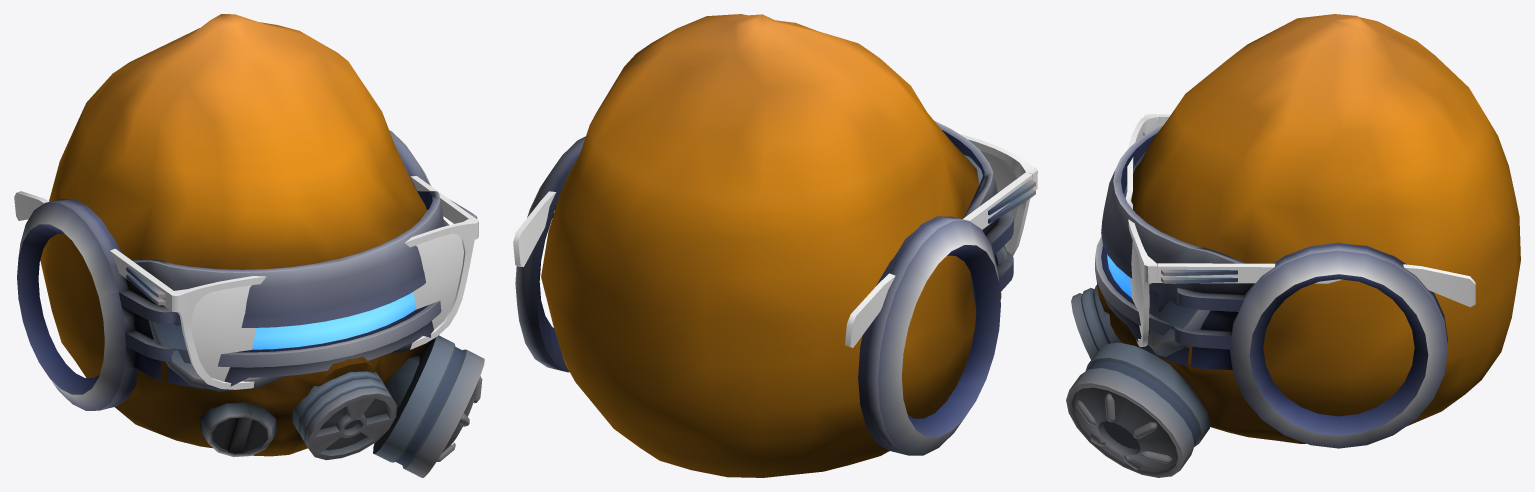
File: BTLMN_Outfit_Face_A.glb
3 renders of one model, left to right at view 1: azimuth 30°, elevation 25°; view 2: azimuth 150°, elevation 25°; view 3: azimuth 270°, elevation 25°, orthographic. The views are drawn at different scales.
Visible parts, largest first — view 1: Face_Gas_Mask_MA01, Face_Visor_VR_VR01, Face_Sunglasses_RA01; view 2: Face_Gas_Mask_MA01, Face_Visor_VR_VR01, Face_Sunglasses_RA01; view 3: Face_Gas_Mask_MA01, Face_Visor_VR_VR01, Face_Sunglasses_RA01.
Part boxes in pixels (<box>): Face_Gas_Mask_MA01: <box>40,14,484,477</box>; Face_Visor_VR_VR01: <box>17,130,449,410</box>; Face_Sunglasses_RA01: <box>14,176,478,389</box>; Face_Gas_Mask_MA01: <box>541,14,1007,477</box>; Face_Visor_VR_VR01: <box>515,121,1013,455</box>; Face_Sunglasses_RA01: <box>513,134,1037,347</box>; Face_Gas_Mask_MA01: <box>1066,14,1520,477</box>; Face_Visor_VR_VR01: <box>1095,125,1448,448</box>; Face_Sunglasses_RA01: <box>1125,114,1475,347</box>.
Size of the model in its own units: 1.05 by 1.18 by 1.19.
5 materials, 3 textured.
